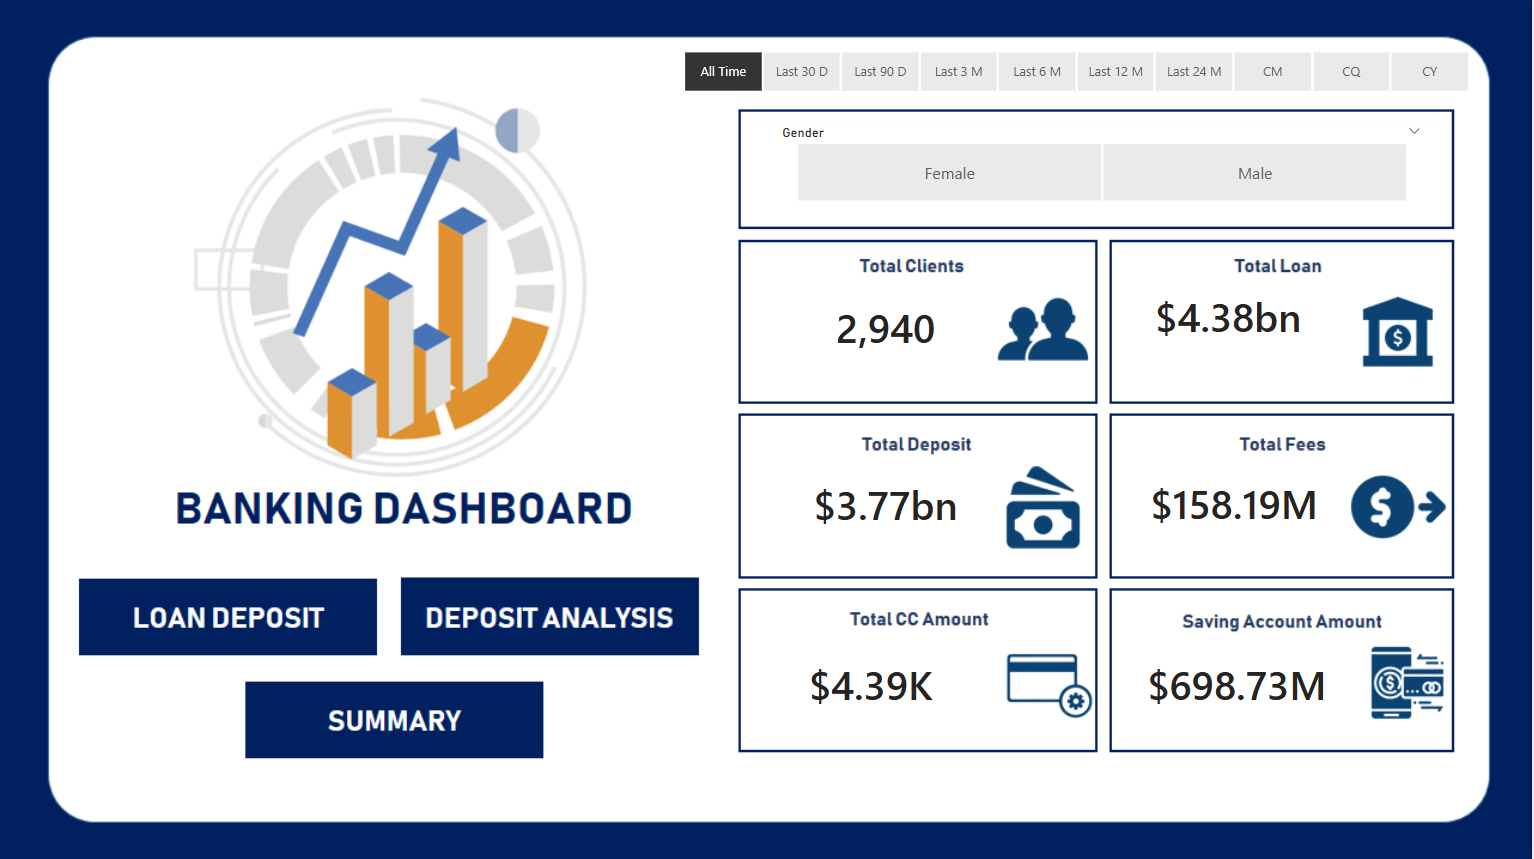

The dashboard page shown, as its layout file describes it:
{"tool":"powerbi","page":{"name":"Home","canvas":[1280,720],"ordinal":0},"visuals":[{"type":"slicer","fields":{"Values":["Gender.Gender"]},"box":[640.3,100.8,558.2,75],"z":0},{"type":"card","fields":{"Values":["DAX Measures.Total Clients"]},"box":[640.3,218.1,198.2,114.9],"z":1000},{"type":"card","fields":{"Values":["DAX Measures.Total Loan"]},"box":[933.4,208.7,184.1,114.9],"z":2000},{"type":"card","fields":{"Values":["DAX Measures.Total Deposit"]},"box":[640.3,374.1,198.2,98.5],"z":3000},{"type":"card","fields":{"Values":["DAX Measures.Total CC Amount"]},"box":[628.5,533.6,198.2,79.7],"z":4000},{"type":"card","fields":{"Values":["DAX Measures.Total Fees"]},"box":[938.1,372.9,185.3,99.7],"z":5000},{"type":"card","fields":{"Values":["DAX Measures.Savings Account"]},"box":[933.4,533.6,198.2,79.7],"z":6000},{"type":"actionButton","box":[63.3,483.1,253.3,65.7],"z":7000},{"type":"actionButton","box":[335.4,485.5,250.9,63.3],"z":8000},{"type":"actionButton","box":[205.2,573.4,255.6,61],"z":9000},{"type":"slicer","fields":{"Values":["Period.Name"]},"box":[546.4,38.7,703.6,45.7],"z":10000}]}

Visuals, with their boxes in screenshot pixels (x1, y1, x2, y2), scaled from the page's 1280x720 canvas onto the 1534x859 screenshot:
slicer - Gender.Gender: left=767, top=120, right=1436, bottom=210
card - DAX Measures.Total Clients: left=767, top=260, right=1005, bottom=397
card - DAX Measures.Total Loan: left=1119, top=249, right=1339, bottom=386
card - DAX Measures.Total Deposit: left=767, top=446, right=1005, bottom=564
card - DAX Measures.Total CC Amount: left=753, top=637, right=991, bottom=732
card - DAX Measures.Total Fees: left=1124, top=445, right=1346, bottom=564
card - DAX Measures.Savings Account: left=1119, top=637, right=1356, bottom=732
actionButton: left=76, top=576, right=379, bottom=655
actionButton: left=402, top=579, right=703, bottom=655
actionButton: left=246, top=684, right=552, bottom=757
slicer - Period.Name: left=655, top=46, right=1498, bottom=101
